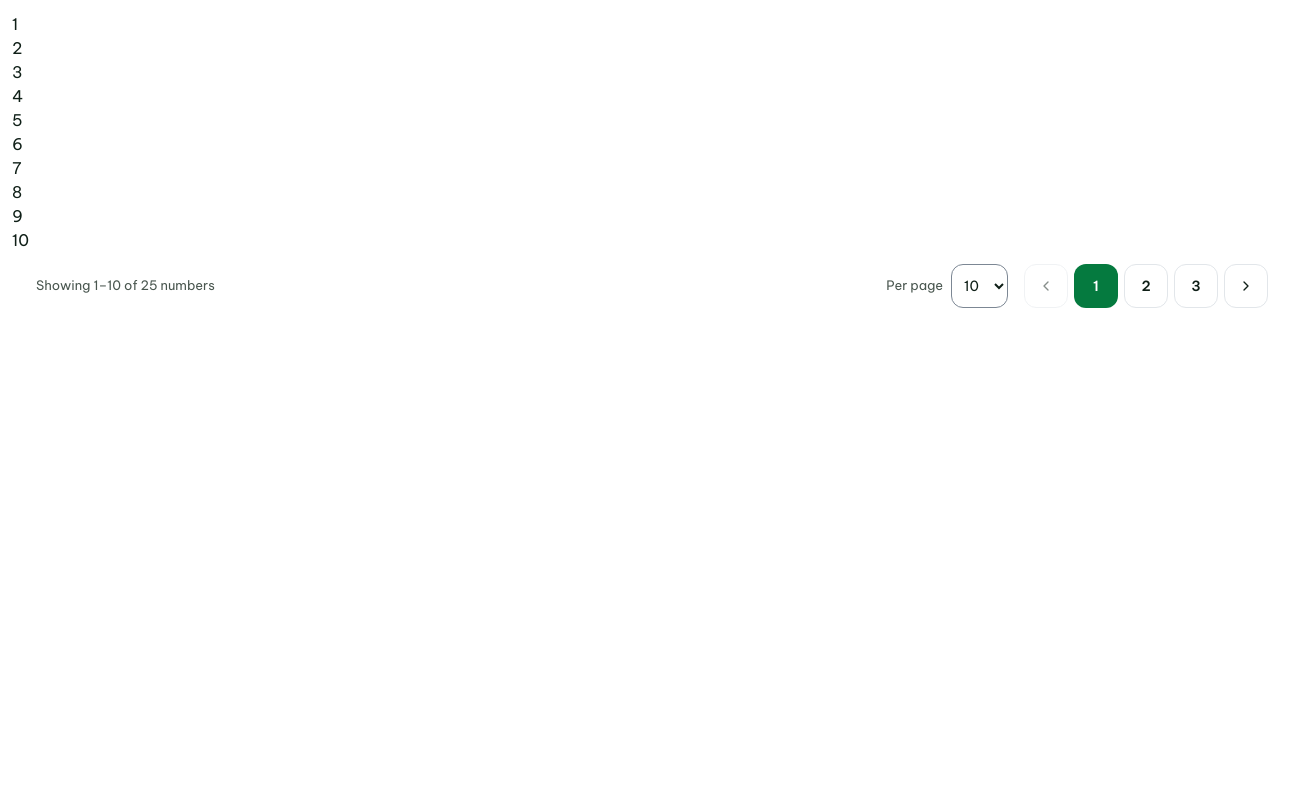
Test: Pager › says what is shown, moves between pages, and marks the current one
Expected: the text "Showing 1–10 of 25 numbers" is shown, [36,277,215,293]
Expected: the button named "Previous page" is disabled, [1024,264,1068,308]
Click the button named "Page 3" at [1196, 286], box [1174,264,1218,308]
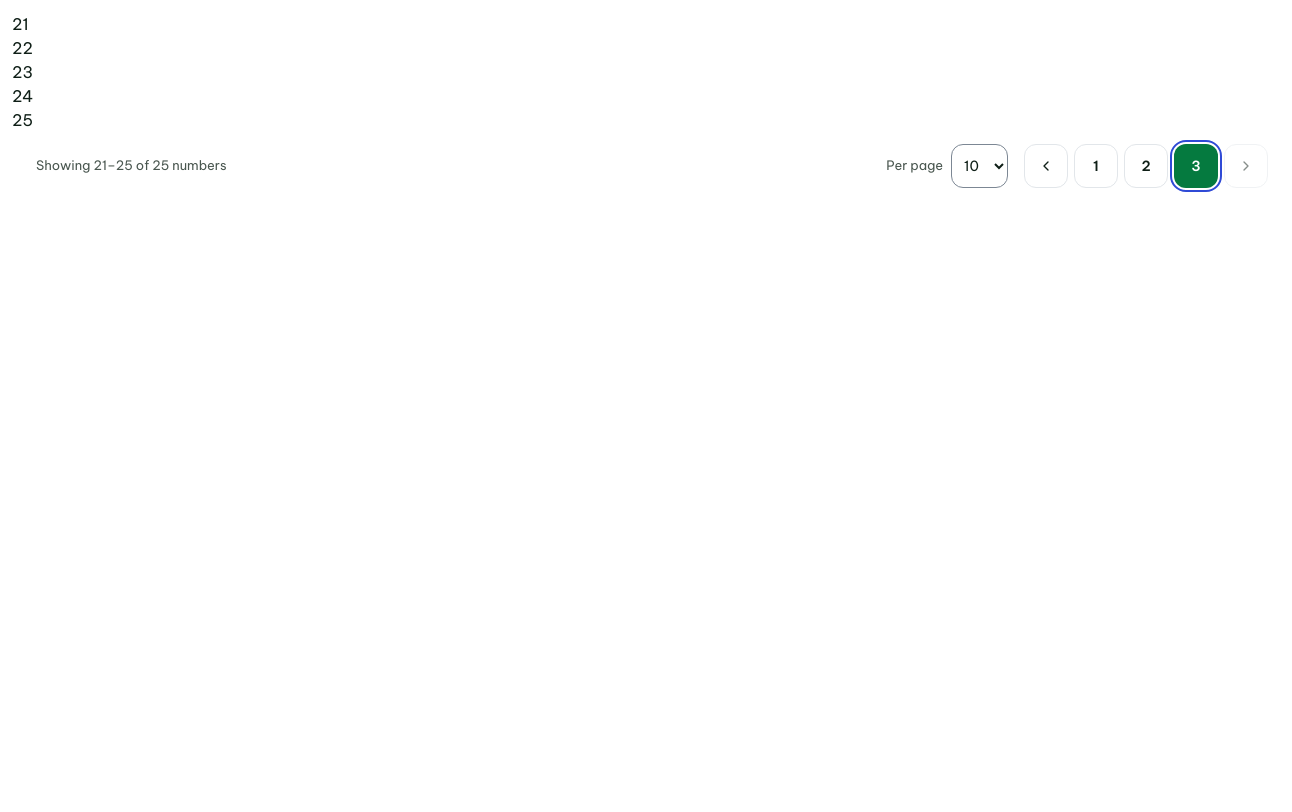
Expected: the button named "Next page" is disabled, [1224,144,1268,188]
Expected: the text "Showing 21–25 of 25 numbers" is shown, [36,157,226,173]
Select "50" in the dropdown labelled "Per page" at [980, 166], box [951,144,1008,188]
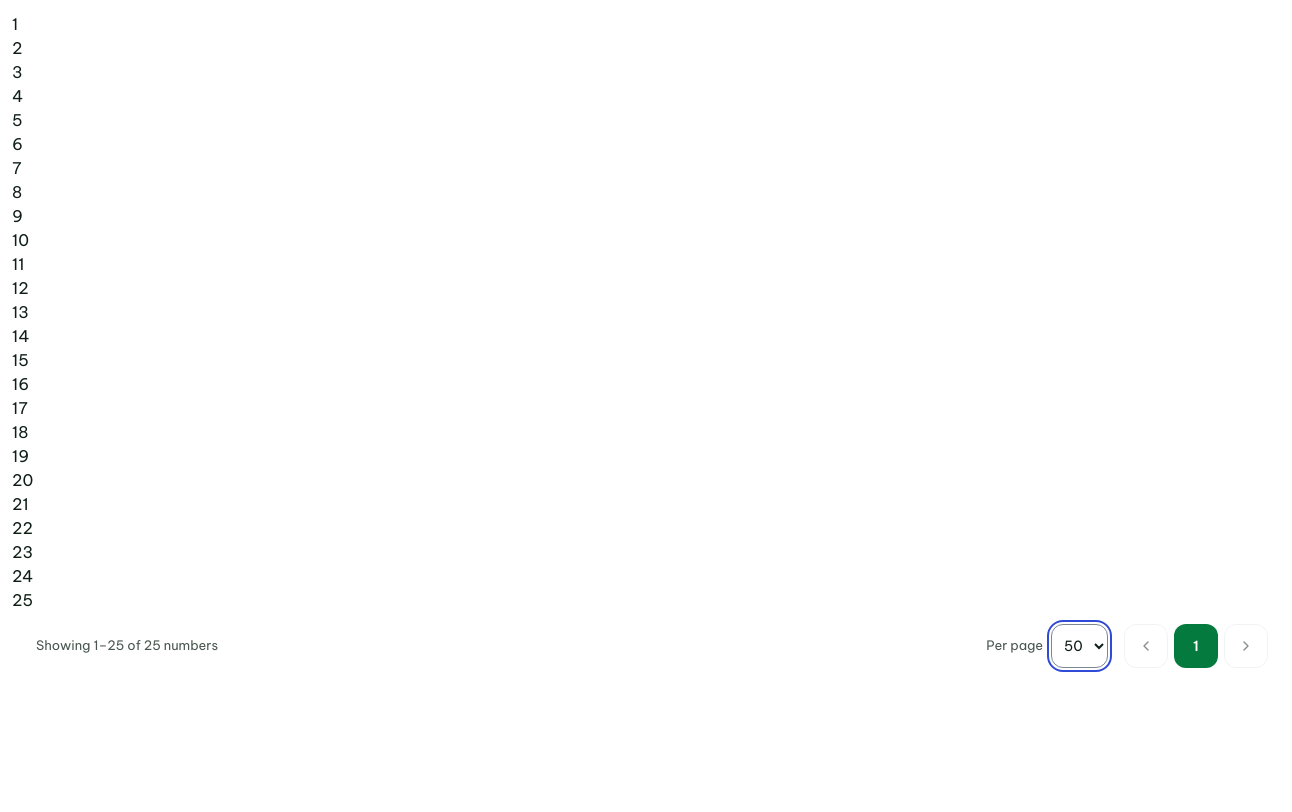
Expected: the text "Showing 1–25 of 25 numbers" is shown, [36,637,218,653]
